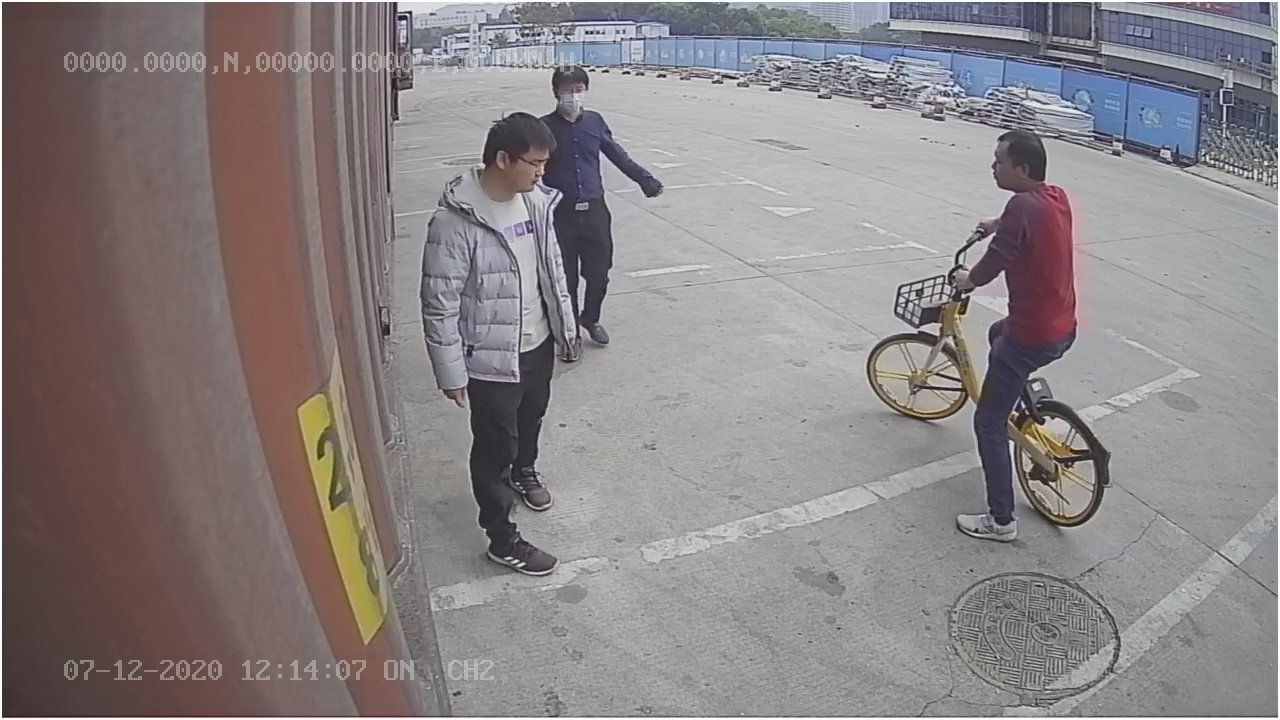person: (421, 112, 574, 575)
